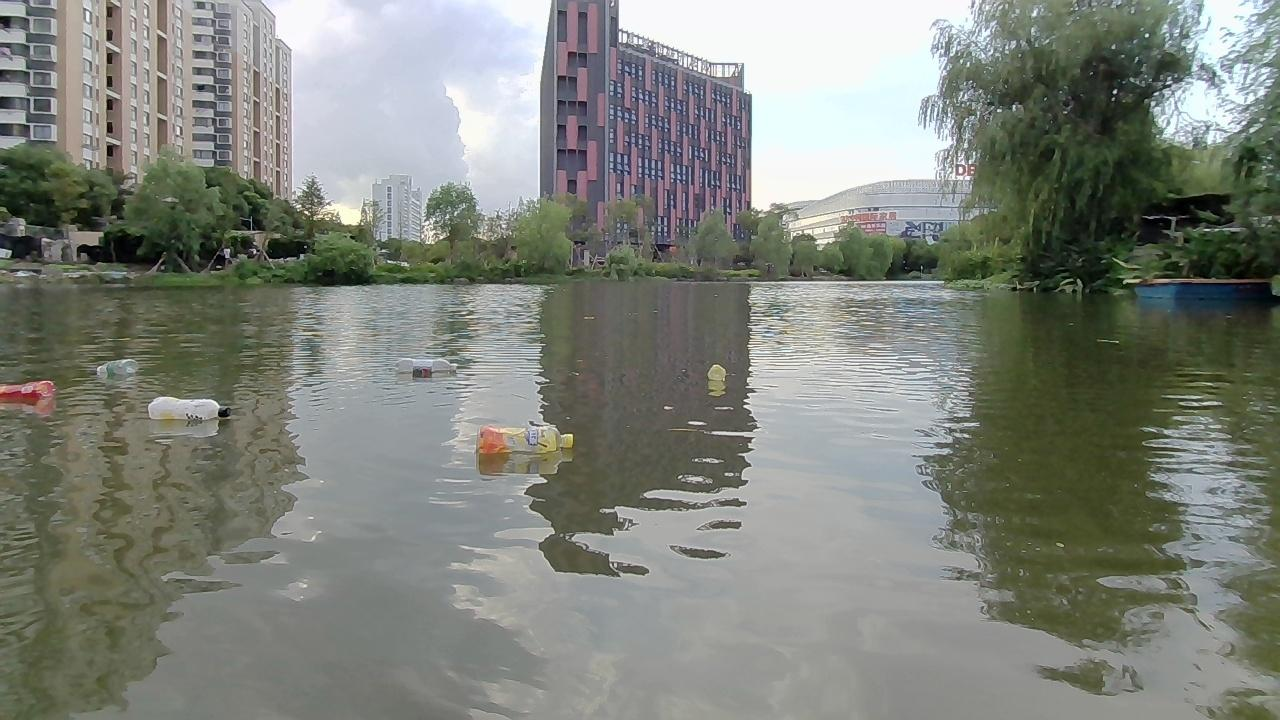bottle: (471, 417, 579, 457), (139, 395, 232, 423), (393, 355, 466, 376), (0, 381, 57, 407), (92, 353, 137, 378), (705, 362, 726, 382)
